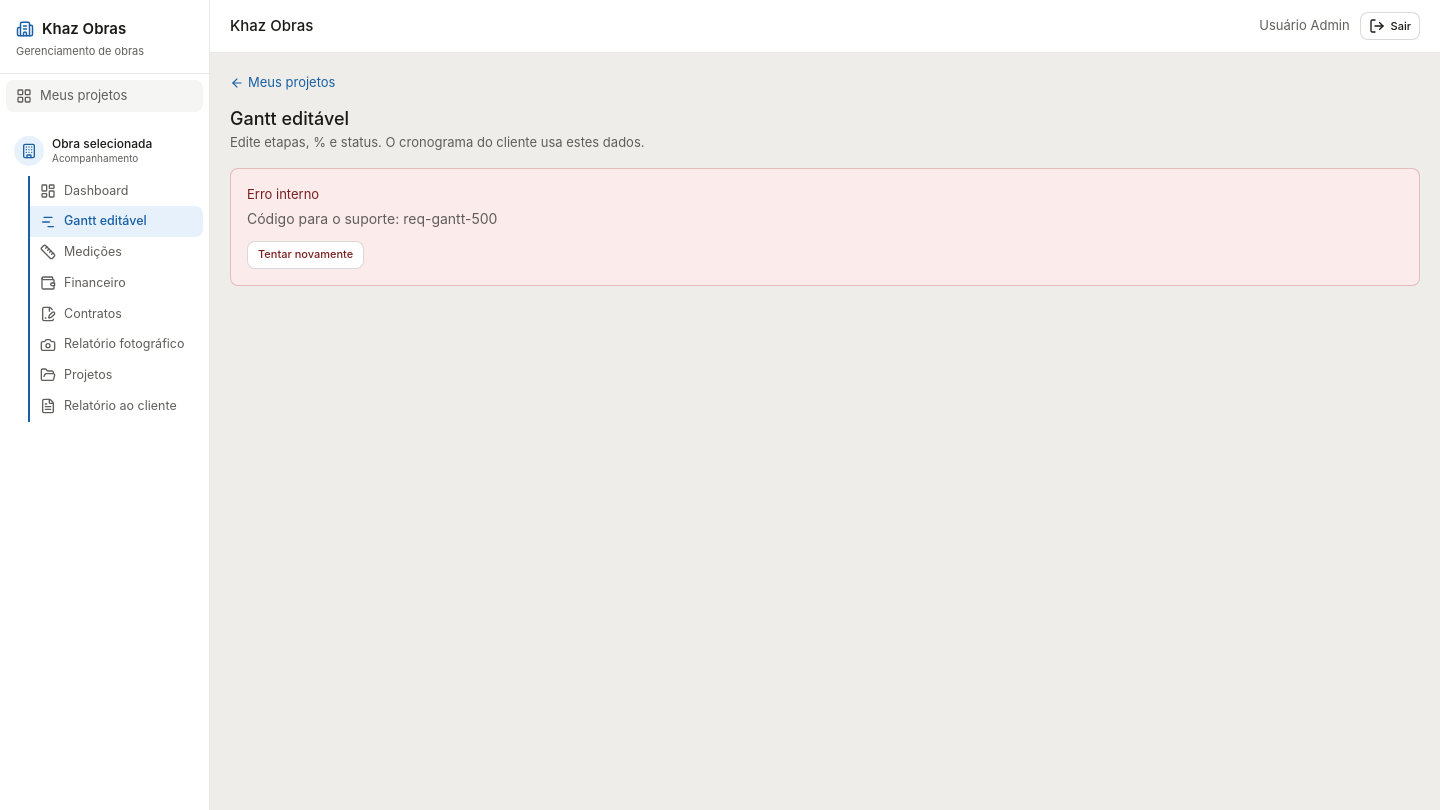
it: Gantt editável: estados da tela › erro 500 mostra o código de suporte e "Tentar novamente" refaz a busca
Expected: the message shows "req-gantt-500", [403, 210, 497, 226]
Click the button "Tentar novamente" at (306, 254), box [247, 240, 364, 268]
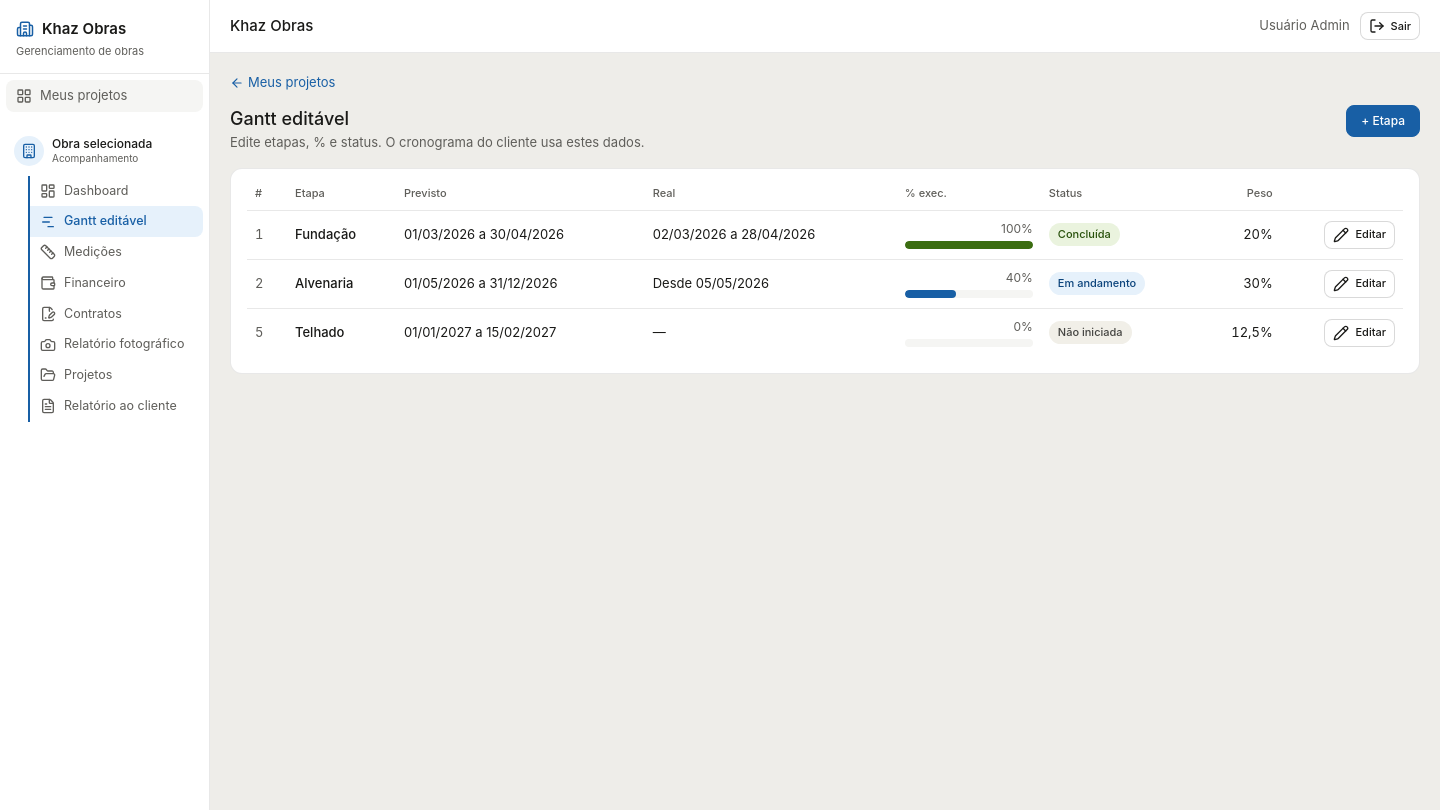
Expected: the text "Fundação" is shown, [287, 210, 396, 259]
